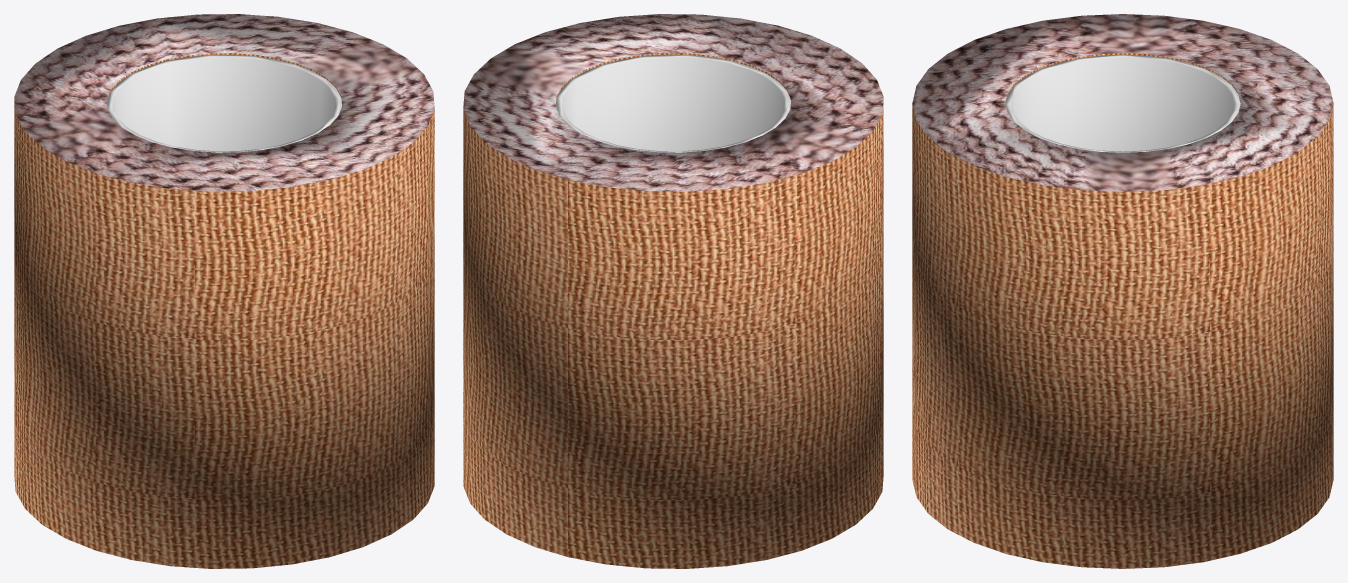
File: BandageRoll.glb
3 renders of one model, left to right at view 1: azimuth 30°, elevation 25°; view 2: azimuth 150°, elevation 25°; view 3: azimuth 270°, elevation 25°, orthographic.
Visible parts, largest first — view 1: Cylinder; view 2: Cylinder; view 3: Cylinder.
Part boxes in pixels (box(x1,y1,x2,y2)): Cylinder: box(14, 14, 434, 568); Cylinder: box(463, 14, 883, 568); Cylinder: box(912, 14, 1333, 568).
Bounding box in the file's own units: 0.5251 × 0.5187 × 0.5251.
3 materials, 2 textured.
